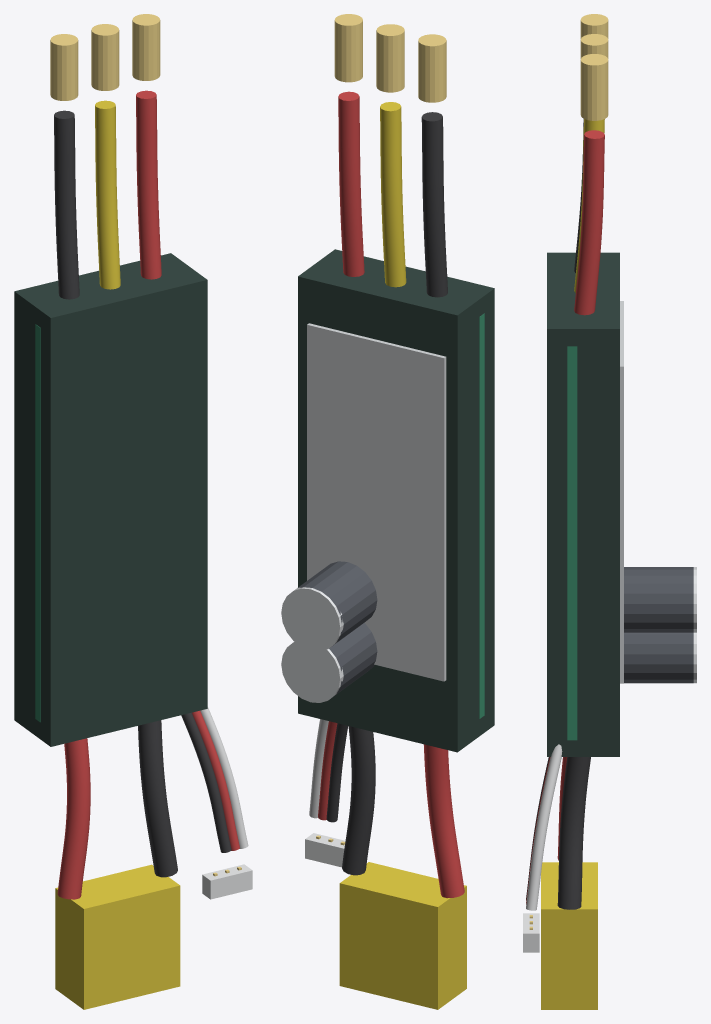
File: esc.glb
The picture shows the model from 3 angles, left to right: view 1: azimuth 30°, elevation 25°; view 2: azimuth 150°, elevation 25°; view 3: azimuth 270°, elevation 25°; orthographic projection. The views are drawn at different scales.
Parts seen in each view (by area): view 1: ESC; view 2: ESC; view 3: ESC.
Boxes of the visible parts, x1,y1,x2,y2 form: ESC: (14,14,252,1009); ESC: (281,14,494,1009); ESC: (523,14,696,1009).
Bounding box in the file's own units: 0.0316 × 0.1504 × 0.025.
